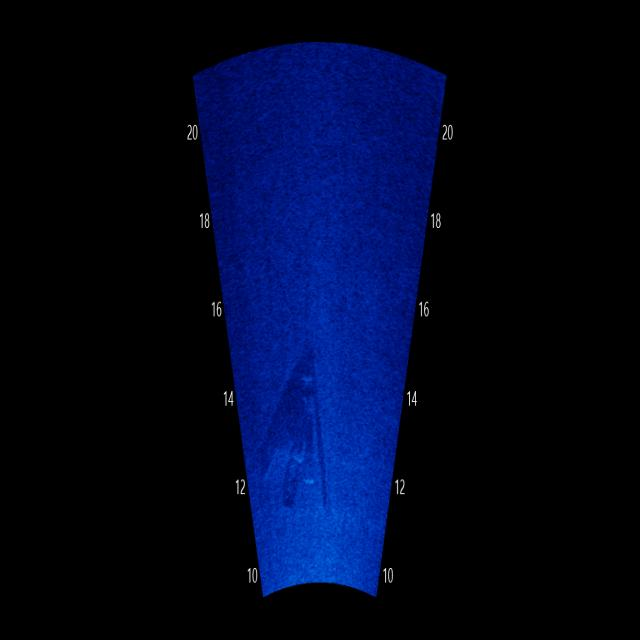square: (260, 340, 331, 526)
